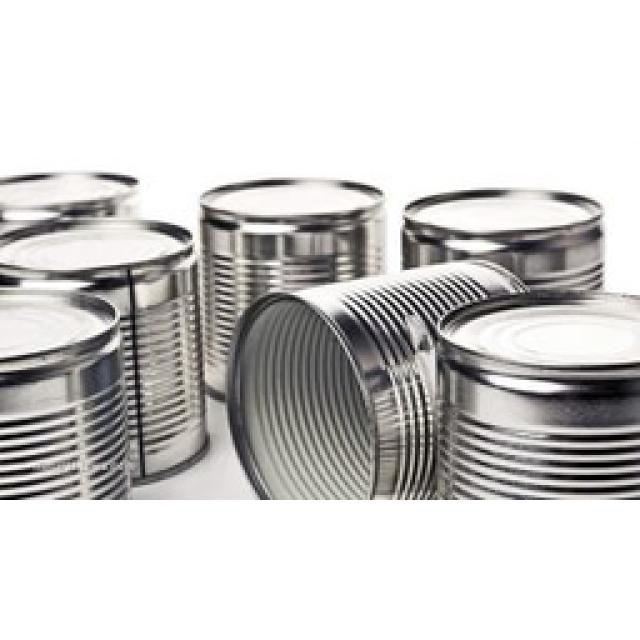alumunium: (0, 172, 638, 498)
